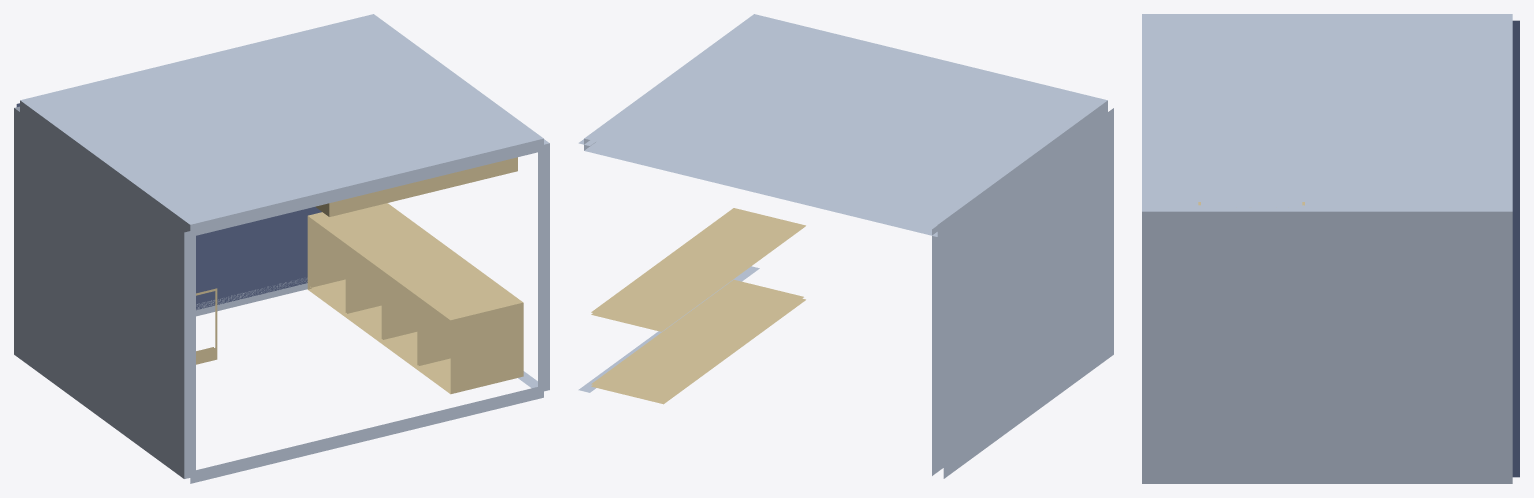
Rendered from kitchen-vertical.glb.
3 renders of one model, left to right at view 1: azimuth 30°, elevation 25°; view 2: azimuth 150°, elevation 25°; view 3: azimuth 270°, elevation 25°, orthographic. The views are drawn at different scales.
Parts seen in each view (by area): view 1: wall-wall-c, wall-wall-d, t1-side-right, floor, wall-wall-a, t1-top, wall-wall-b, t1-side-left, t1-bottom, t1-shelf-1, t1-shelf-2, t1-shelf-3 (+3 smaller); view 2: wall-wall-c, wall-wall-d, t1-side-left, t1-side-right, t1-facade, wall-wall-b; view 3: wall-wall-b, wall-wall-c, floor, wall-wall-a.
Boxes of the visible parts, x1,y1,x2,y2 form: wall-wall-c: (20,14,543,236); wall-wall-d: (14,106,195,478); t1-side-right: (310,203,523,321); floor: (16,103,321,310); wall-wall-a: (190,278,543,483); t1-top: (452,305,523,391); wall-wall-b: (518,139,549,392); t1-side-left: (309,279,523,393); t1-bottom: (309,217,345,287); t1-shelf-1: (345,244,381,313); t1-shelf-2: (381,270,417,339); t1-shelf-3: (417,296,450,365); wall-wall-c: (584,14,1107,236); wall-wall-d: (932,108,1113,478); t1-side-left: (591,280,804,403); t1-side-right: (591,208,803,330); t1-facade: (662,225,805,404); wall-wall-b: (578,139,759,392); wall-wall-b: (1142,205,1512,480); wall-wall-c: (1142,14,1512,205); floor: (1512,20,1519,477); wall-wall-a: (1142,480,1512,483).
Bounding box in the file's own units: 3100 × 2100 × 2550.
